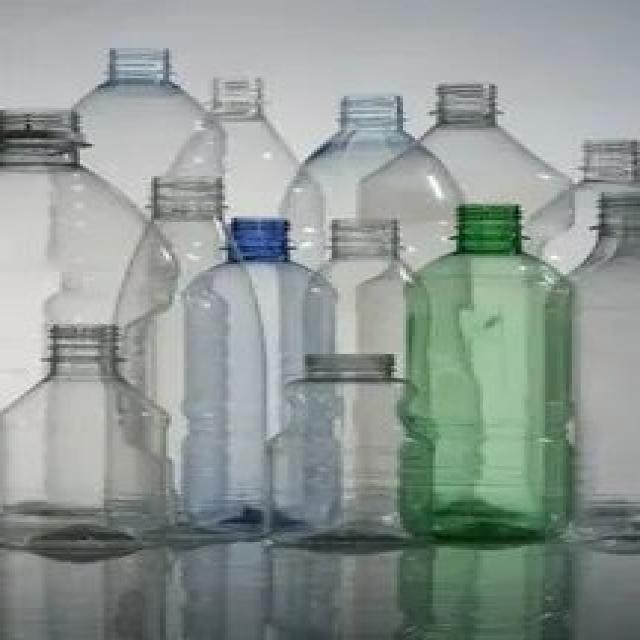blue: (183, 220, 333, 532)
green: (405, 205, 575, 543)
